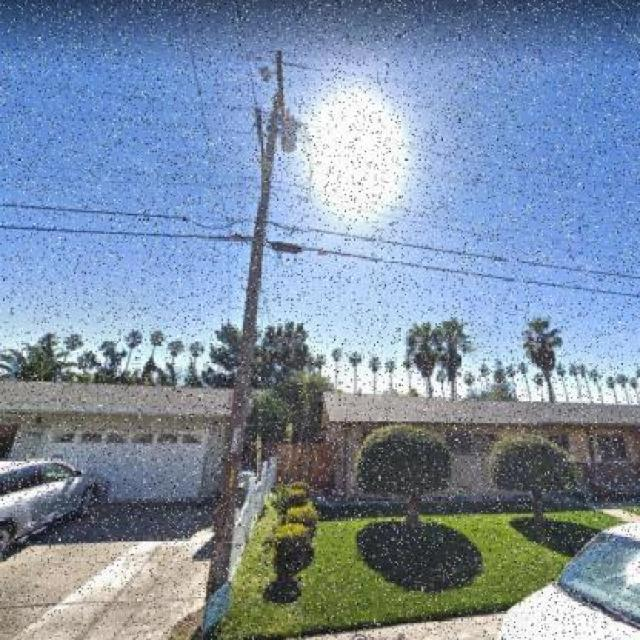pole: (195, 26, 318, 614)
